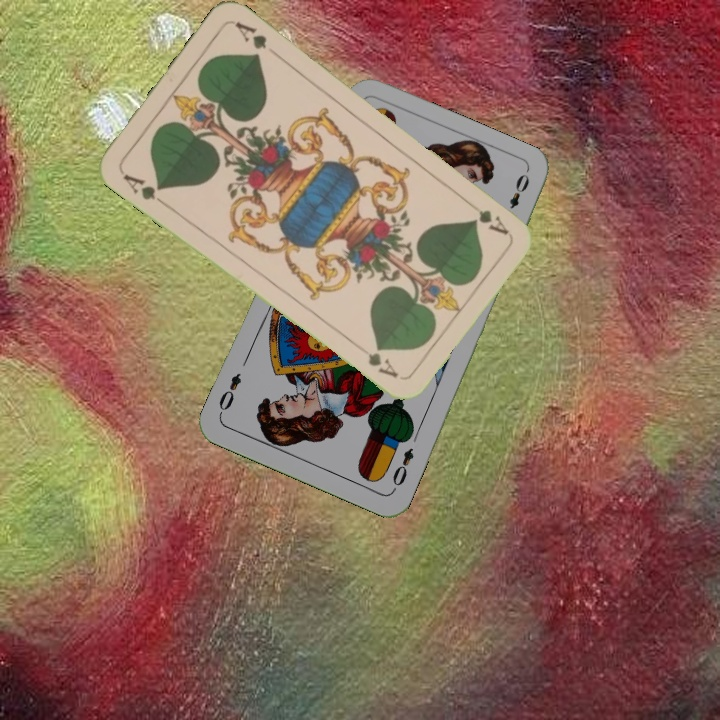EO: (388, 444, 417, 494)
GA: (461, 196, 512, 238), (118, 170, 169, 209)
